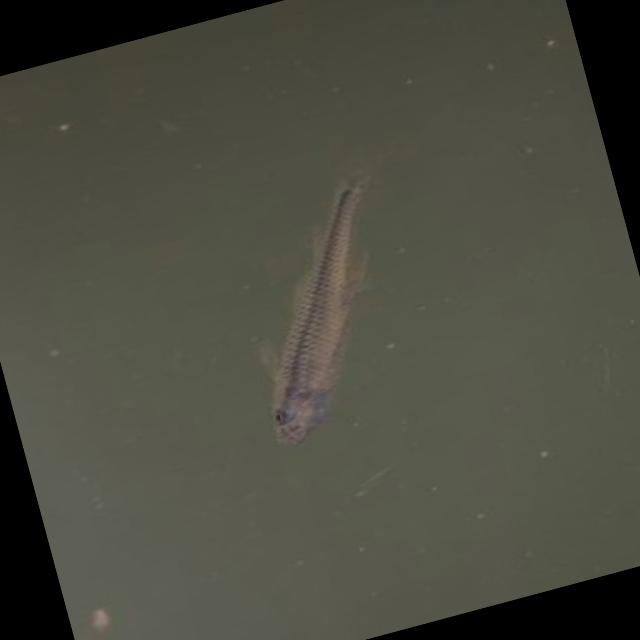Cakil Baligi: (202, 150, 448, 454)
